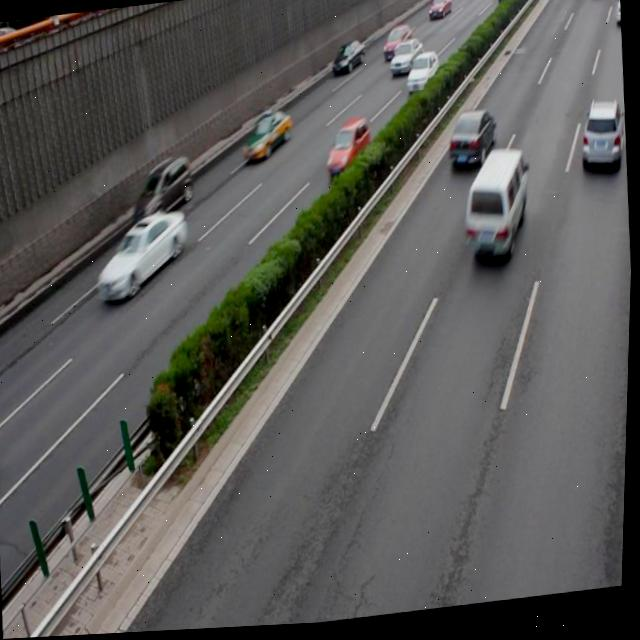car: (92, 210, 191, 305), (129, 154, 196, 233), (576, 102, 628, 179), (444, 109, 499, 177), (323, 119, 373, 183), (240, 110, 294, 167), (404, 53, 441, 100)
truck: (457, 149, 533, 271)
